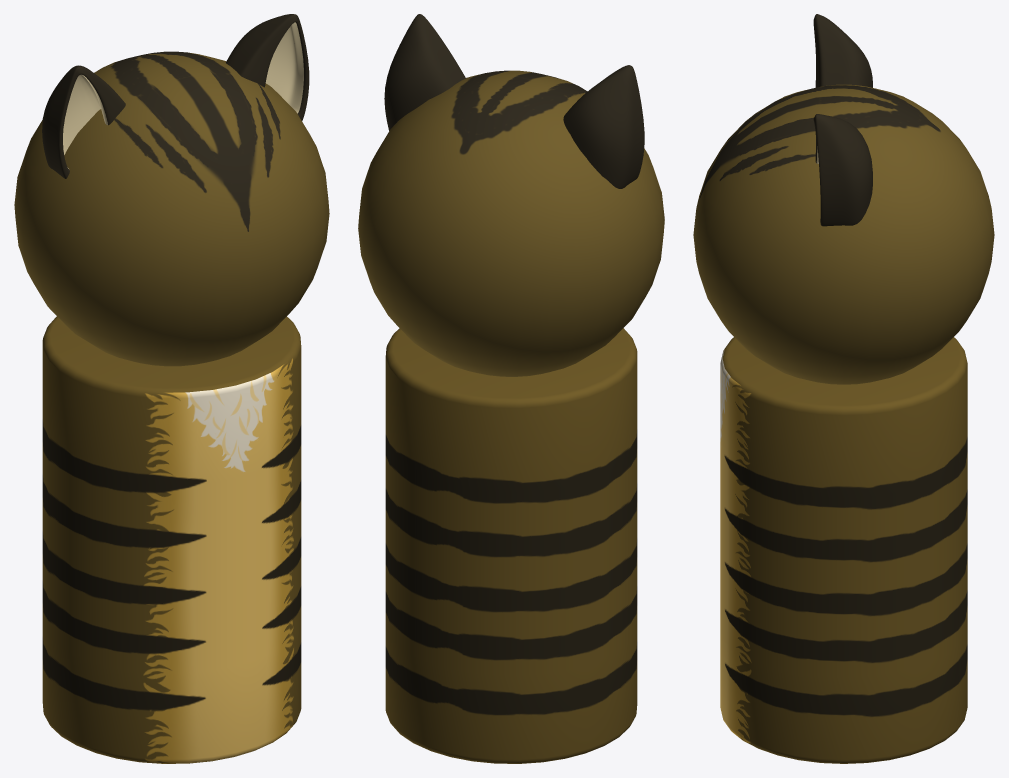
The model's file is cheshirecat.glb.
3 renders of one model, left to right at view 1: azimuth 30°, elevation 25°; view 2: azimuth 150°, elevation 25°; view 3: azimuth 270°, elevation 25°, orthographic. The views are drawn at different scales.
Parts seen in each view (by area): view 1: Cylinder, Sphere, Cube; view 2: Cylinder, Sphere, Cube; view 3: Cylinder, Sphere, Cube.
Boxes of the visible parts, x1=… form: Cylinder: x1=42, y1=316, x2=301, y2=763; Sphere: x1=14, y1=51, x2=329, y2=366; Cube: x1=42, y1=14, x2=309, y2=178; Cylinder: x1=385, y1=328, x2=637, y2=763; Sphere: x1=358, y1=70, x2=664, y2=376; Cube: x1=384, y1=14, x2=644, y2=188; Cylinder: x1=720, y1=337, x2=967, y2=763; Sphere: x1=693, y1=84, x2=994, y2=384; Cube: x1=813, y1=14, x2=872, y2=226.
Bounding box in the file's own units: 2.44 × 5.8 × 2.44.
4 materials, 2 textured.
